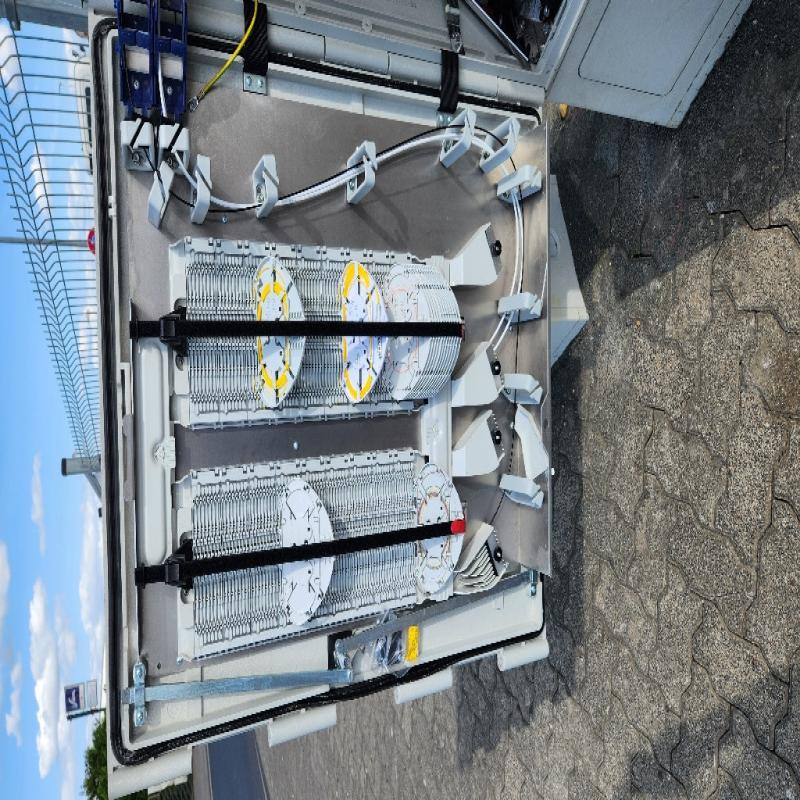NT-Gehause: (89, 0, 752, 799)
Spleiskassetten: (175, 449, 466, 655), (178, 244, 465, 425)
